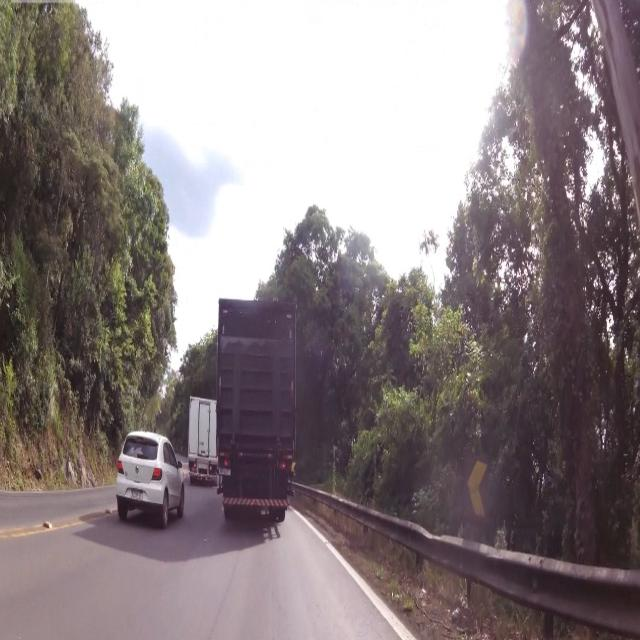Del: (461, 444, 491, 524)
